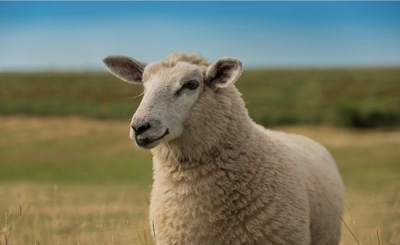koyun: (101, 51, 348, 244)
